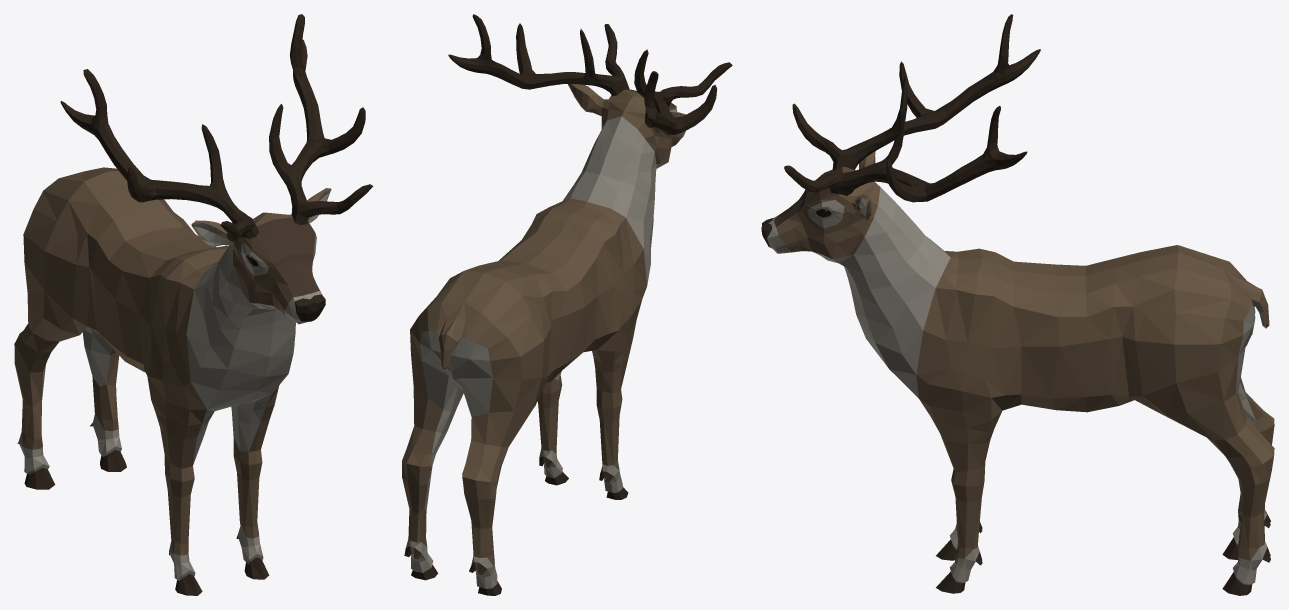
The model's file is reindeer.glb.
3 views of the same model, side by side, from view 1: azimuth 30°, elevation 25°; view 2: azimuth 150°, elevation 25°; view 3: azimuth 270°, elevation 25° (orthographic). The views are drawn at different scales.
Visible parts, largest first — view 1: zoo-reindeer; view 2: zoo-reindeer; view 3: zoo-reindeer.
Boxes of the visible parts, box(x1,y1,x2,y2) form: zoo-reindeer: box(14, 14, 373, 595); zoo-reindeer: box(402, 14, 732, 595); zoo-reindeer: box(761, 14, 1274, 595).
Size of the model in its own units: 0.844 by 1.77 by 1.6.
